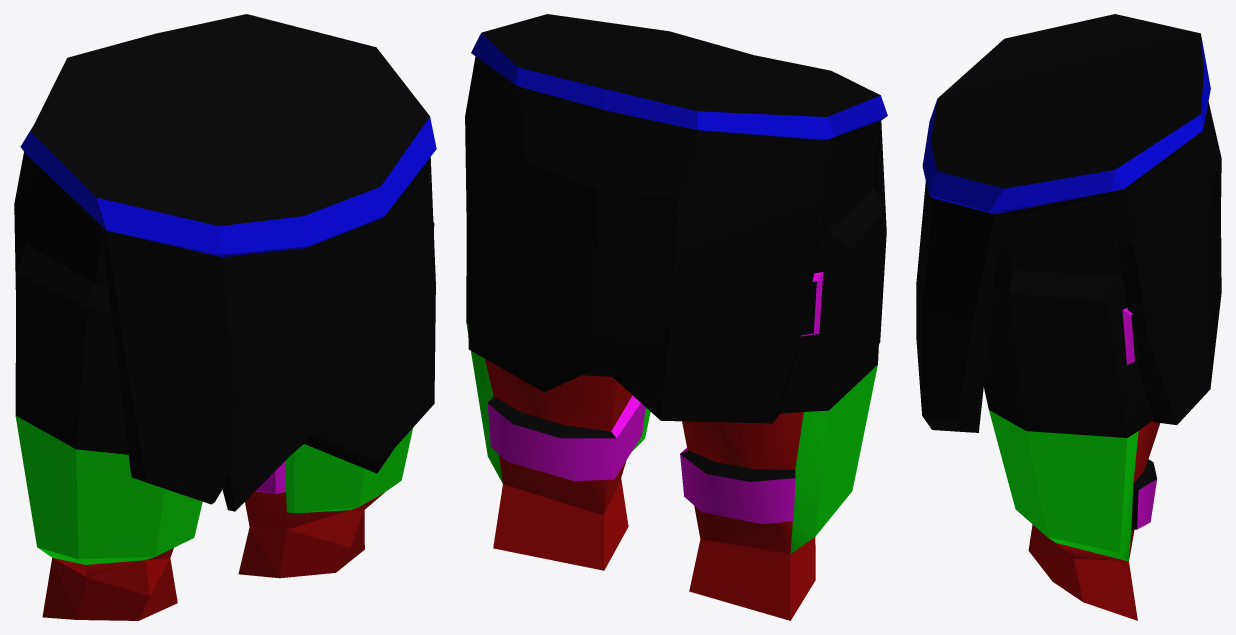
File: Chr_Hips_Male_Static_18.fbx
The picture shows the model from 3 angles, left to right: view 1: azimuth 30°, elevation 25°; view 2: azimuth 150°, elevation 25°; view 3: azimuth 270°, elevation 25°; orthographic projection. The views are drawn at different scales.
Visible parts, largest first — view 1: Chr_Hips_Male_18; view 2: Chr_Hips_Male_18; view 3: Chr_Hips_Male_18.
Part boxes in pixels (left/top/right/bottom): Chr_Hips_Male_18: left=14, top=14, right=436, bottom=620; Chr_Hips_Male_18: left=465, top=14, right=887, bottom=620; Chr_Hips_Male_18: left=916, top=14, right=1221, bottom=620.
Size of the model in its own units: 43.64 by 56.59 by 32.56.
